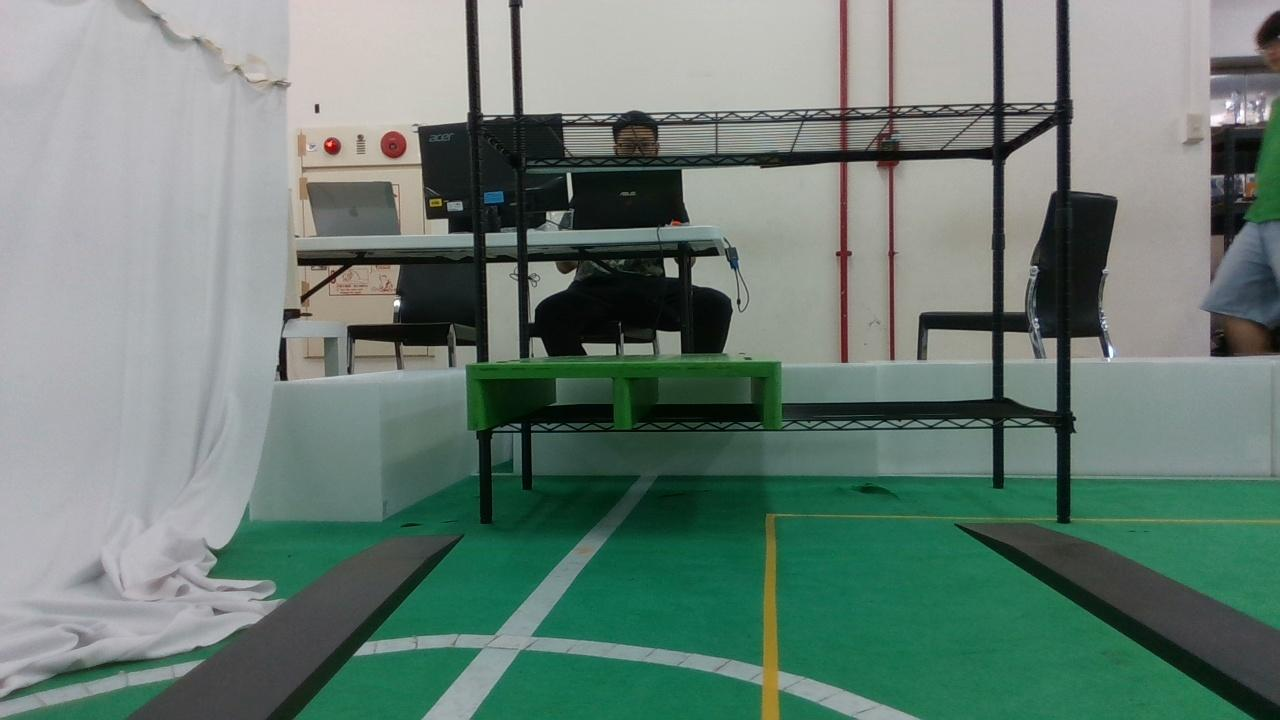Pallet: (465, 361, 784, 431)
